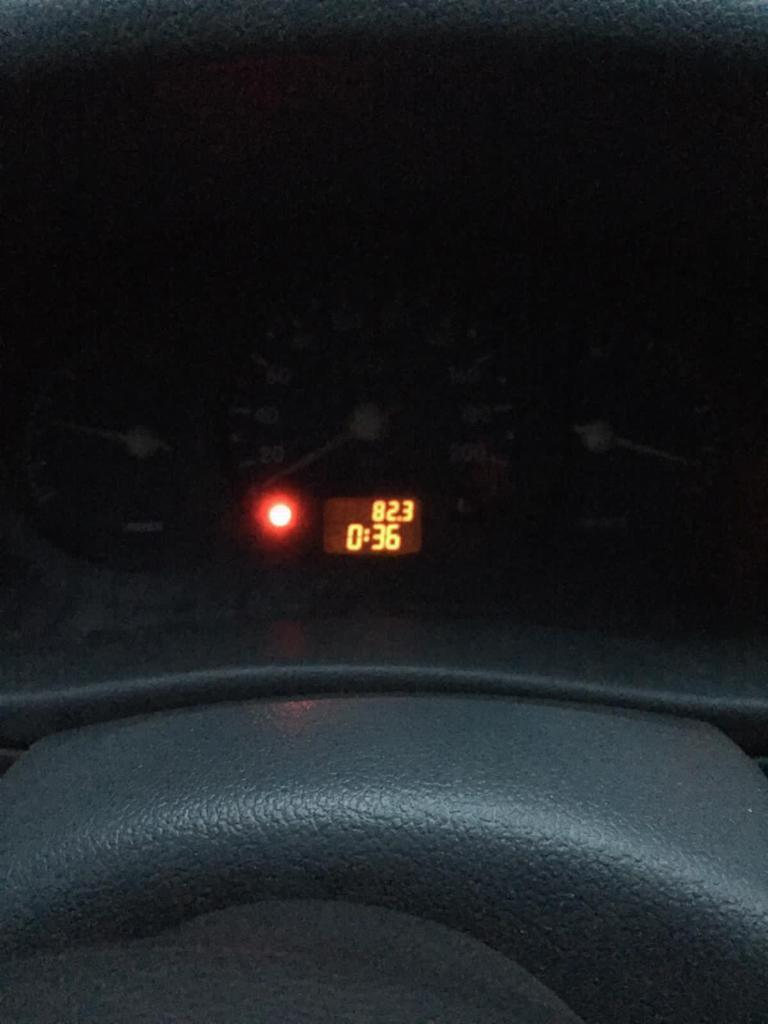,: (396, 513, 402, 522)
0: (344, 520, 363, 551)
2: (386, 498, 400, 521)
3: (371, 522, 385, 550), (402, 499, 413, 522)
6: (385, 523, 400, 550)
8: (372, 499, 385, 521)
X: (363, 527, 370, 543)
odometer: (321, 493, 423, 557)
